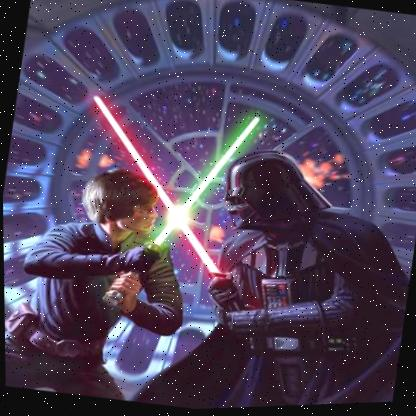lightsaber: (100, 93, 263, 320)
person: (188, 139, 416, 409), (2, 147, 210, 412)
sith_lightsaber: (67, 88, 249, 283)
